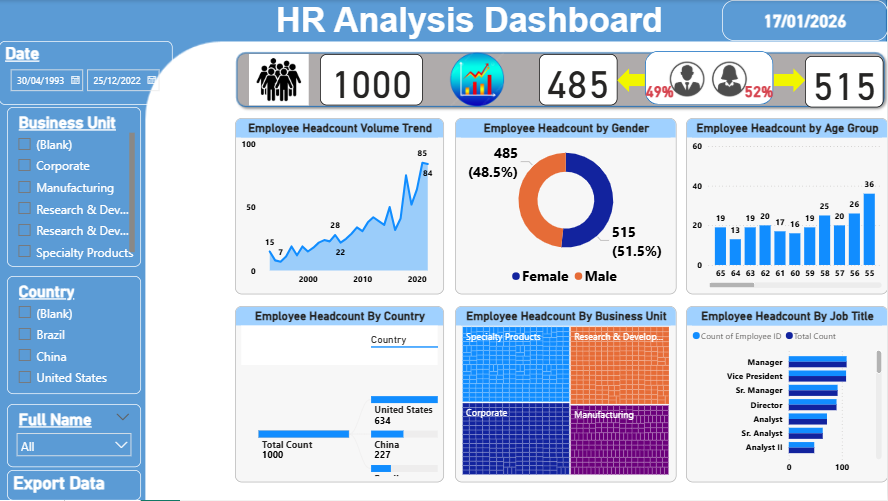

What the dashboard file says about the page in this screenshot:
{"tool":"powerbi","page":{"name":"HR Analysis","canvas":[1280,720],"ordinal":0},"visuals":[{"type":"card","fields":{"Values":["Employee Data.Total_Count"]},"box":[461.9,77.3,147.8,73.9],"z":0},{"type":"image","box":[359.5,77.3,85.7,73.9],"z":1000},{"type":"areaChart","title":"Employee Headcount Volume Trend","fields":{"Category":["Employee Data.Hire Date.Variation.Date Hierarchy.Year"],"Y":["CountNonNull(Employee Data.Employee ID)"]},"box":[339.3,169.7,300.7,253.6],"z":2000},{"type":"donutChart","title":"Employee Headcount by Gender","fields":{"Category":["Employee Data.Gender"],"Y":["CountNonNull(Employee Data.Employee ID)"]},"box":[656.8,169.7,319.2,253.6],"z":3000},{"type":"clusteredColumnChart","title":"Employee Headcount by Age Group","fields":{"Category":["Employee Data.Age"],"Y":["CountNonNull(Employee Data.Employee ID)"]},"box":[989.4,169.7,290.6,253.6],"z":4000},{"type":"decompositionTreeVisual","title":"Employee Headcount By Country","fields":{"Analyze":["CountNonNull(Employee Data.Country)"],"ExplainBy":["Employee Data.Country"]},"box":[339.3,440.1,300.7,253.6],"z":5000},{"type":"treemap","title":"Employee Headcount By Business Unit","fields":{"Values":["CountNonNull(Employee Data.Country)"],"Group":["Employee Data.Business Unit"],"Details":["Employee Data.Employee ID"]},"box":[656.8,440.1,319.2,253.6],"z":6000},{"type":"clusteredBarChart","title":"Employee Headcount By Job Title","fields":{"Category":["Employee Data.Job Title"],"Y":["CountNonNull(Employee Data.Employee ID)","CountNonNull(Employee Data.Country)"]},"box":[989.4,440.1,290.6,253.6],"z":7000},{"type":"shape","box":[930.6,73.9,184.8,77.3],"z":8000},{"type":"image","box":[952.4,53.8,139.4,120.9],"z":9000},{"type":"card","fields":{"Values":["Employee Data.Total_Male_Count"]},"box":[777.7,77.3,112.5,73.9],"z":10000},{"type":"card","fields":{"Values":["Employee Data.Total_Female_Count"]},"box":[1160.7,80.6,112.5,73.9],"z":11000},{"type":"card","fields":{"Values":["Employee Data.Male%"]},"box":[880.2,95.7,142.8,73.9],"z":12000},{"type":"card","fields":{"Values":["Employee Data.Female%"]},"box":[1023,95.7,142.8,73.9],"z":13000},{"type":"shape","title":"HR Analysis Dashboard","box":[238.5,0,876.9,58.8],"z":14000},{"type":"image","box":[640,58.8,99.1,110.9],"z":15000},{"type":"shape","box":[890.3,97.4,40.3,35.3],"z":16000},{"type":"shape","box":[1115.4,97.4,45.4,35.3],"z":17000},{"type":"slicer","fields":{"Values":["Employee Data.Business Unit"]},"box":[11.8,154.5,193.2,230.1],"z":18000},{"type":"slicer","fields":{"Values":["Employee Data.Country"]},"box":[11.8,398.1,193.2,169.7],"z":19000},{"type":"slicer","fields":{"Values":["Employee Data.Full Name"]},"box":[11.8,581.2,193.2,90.7],"z":20000},{"type":"slicer","title":"Date","fields":{"Values":["Employee Data.Hire Date"]},"box":[0,58.8,250.3,92.4],"z":21000},{"type":"card","fields":{"Values":["Min(Query1.Date)"]},"box":[1041.5,0,238.5,58.8],"z":22000},{"type":"tableEx","title":"Export Data","fields":{"Values":["Employee Data.Gender","Employee Data.Female%","Employee Data.Full Name"]},"box":[11.8,677,193.2,43.7],"z":26000}]}

Visuals, with their boxes in screenshot pixels (x1, y1, x2, y2), scaled from the page's 1280x720 canvas onto the 888x501 screenshot:
card - Employee Data.Total_Count: bbox(320, 54, 423, 105)
image: bbox(249, 54, 309, 105)
"Employee Headcount Volume Trend" areaChart: bbox(235, 118, 444, 295)
"Employee Headcount by Gender" donutChart: bbox(456, 118, 677, 295)
"Employee Headcount by Age Group" clusteredColumnChart: bbox(686, 118, 887, 295)
"Employee Headcount By Country" decompositionTreeVisual: bbox(235, 306, 444, 483)
"Employee Headcount By Business Unit" treemap: bbox(456, 306, 677, 483)
"Employee Headcount By Job Title" clusteredBarChart: bbox(686, 306, 887, 483)
shape: bbox(646, 51, 774, 105)
image: bbox(661, 37, 757, 122)
card - Employee Data.Total_Male_Count: bbox(540, 54, 618, 105)
card - Employee Data.Total_Female_Count: bbox(805, 56, 883, 108)
card - Employee Data.Male%: bbox(611, 67, 710, 118)
card - Employee Data.Female%: bbox(710, 67, 809, 118)
"HR Analysis Dashboard" shape: bbox(165, 0, 774, 41)
image: bbox(444, 41, 513, 118)
shape: bbox(618, 68, 646, 92)
shape: bbox(774, 68, 805, 92)
slicer - Employee Data.Business Unit: bbox(8, 108, 142, 268)
slicer - Employee Data.Country: bbox(8, 277, 142, 395)
slicer - Employee Data.Full Name: bbox(8, 404, 142, 468)
"Date" slicer: bbox(0, 41, 174, 105)
card - Min(Query1.Date): bbox(723, 0, 887, 41)
"Export Data" tableEx: bbox(8, 471, 142, 500)
